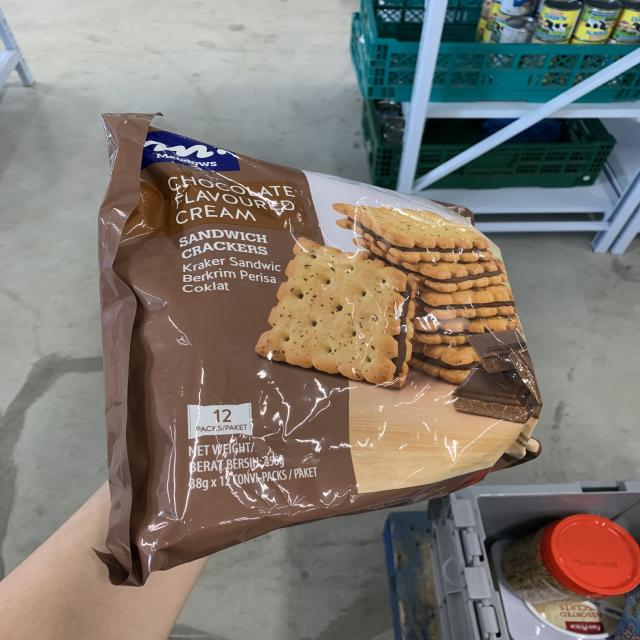object_name: (106, 135, 533, 500)
